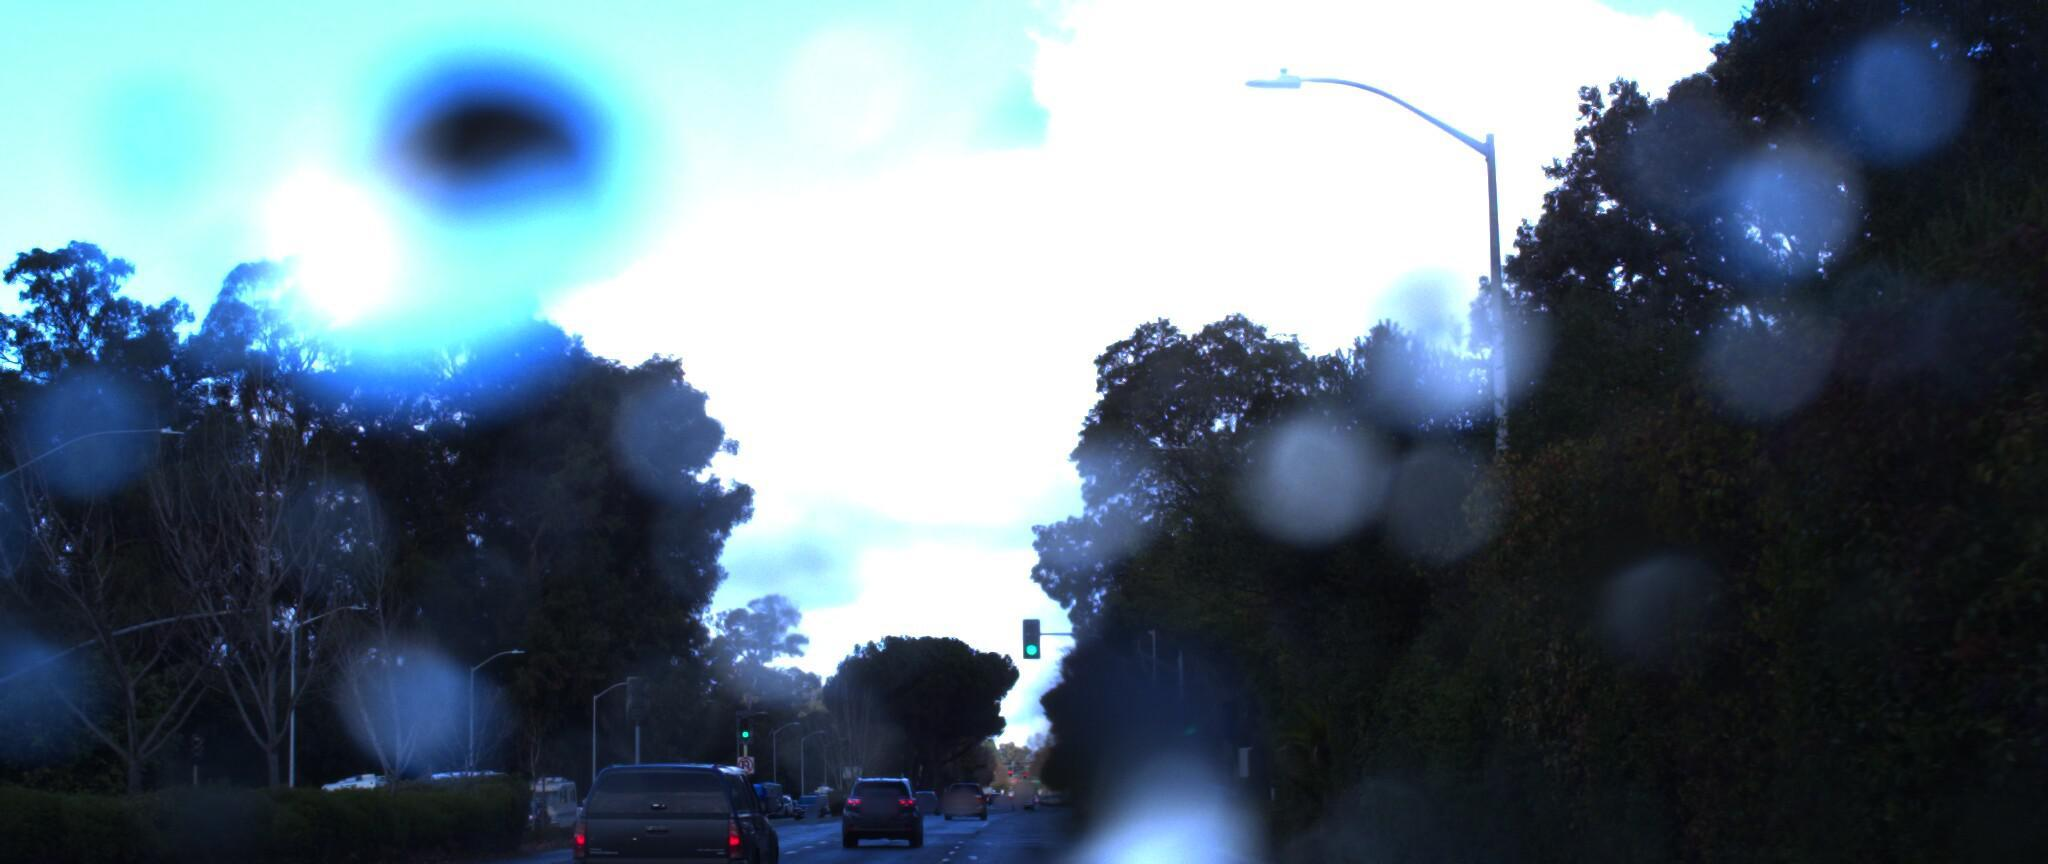car: (556, 756, 792, 864), (835, 752, 927, 827)
